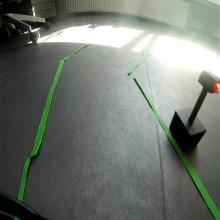red: (197, 68, 220, 94)
